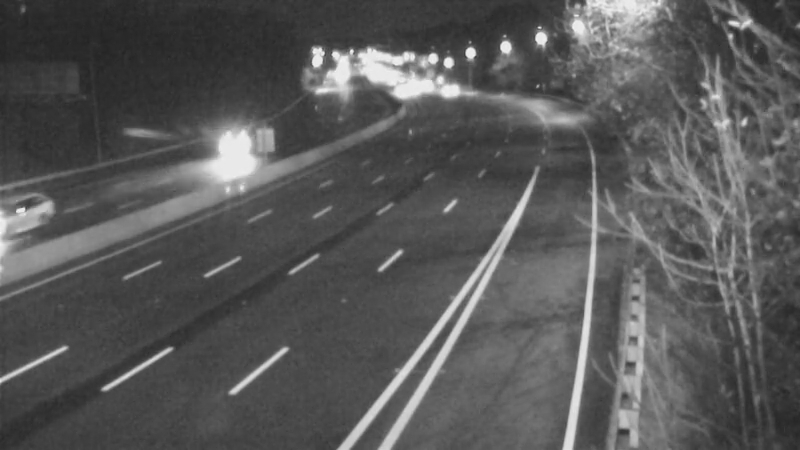vehicle: (1, 188, 69, 268), (417, 71, 467, 121), (205, 122, 255, 172)
